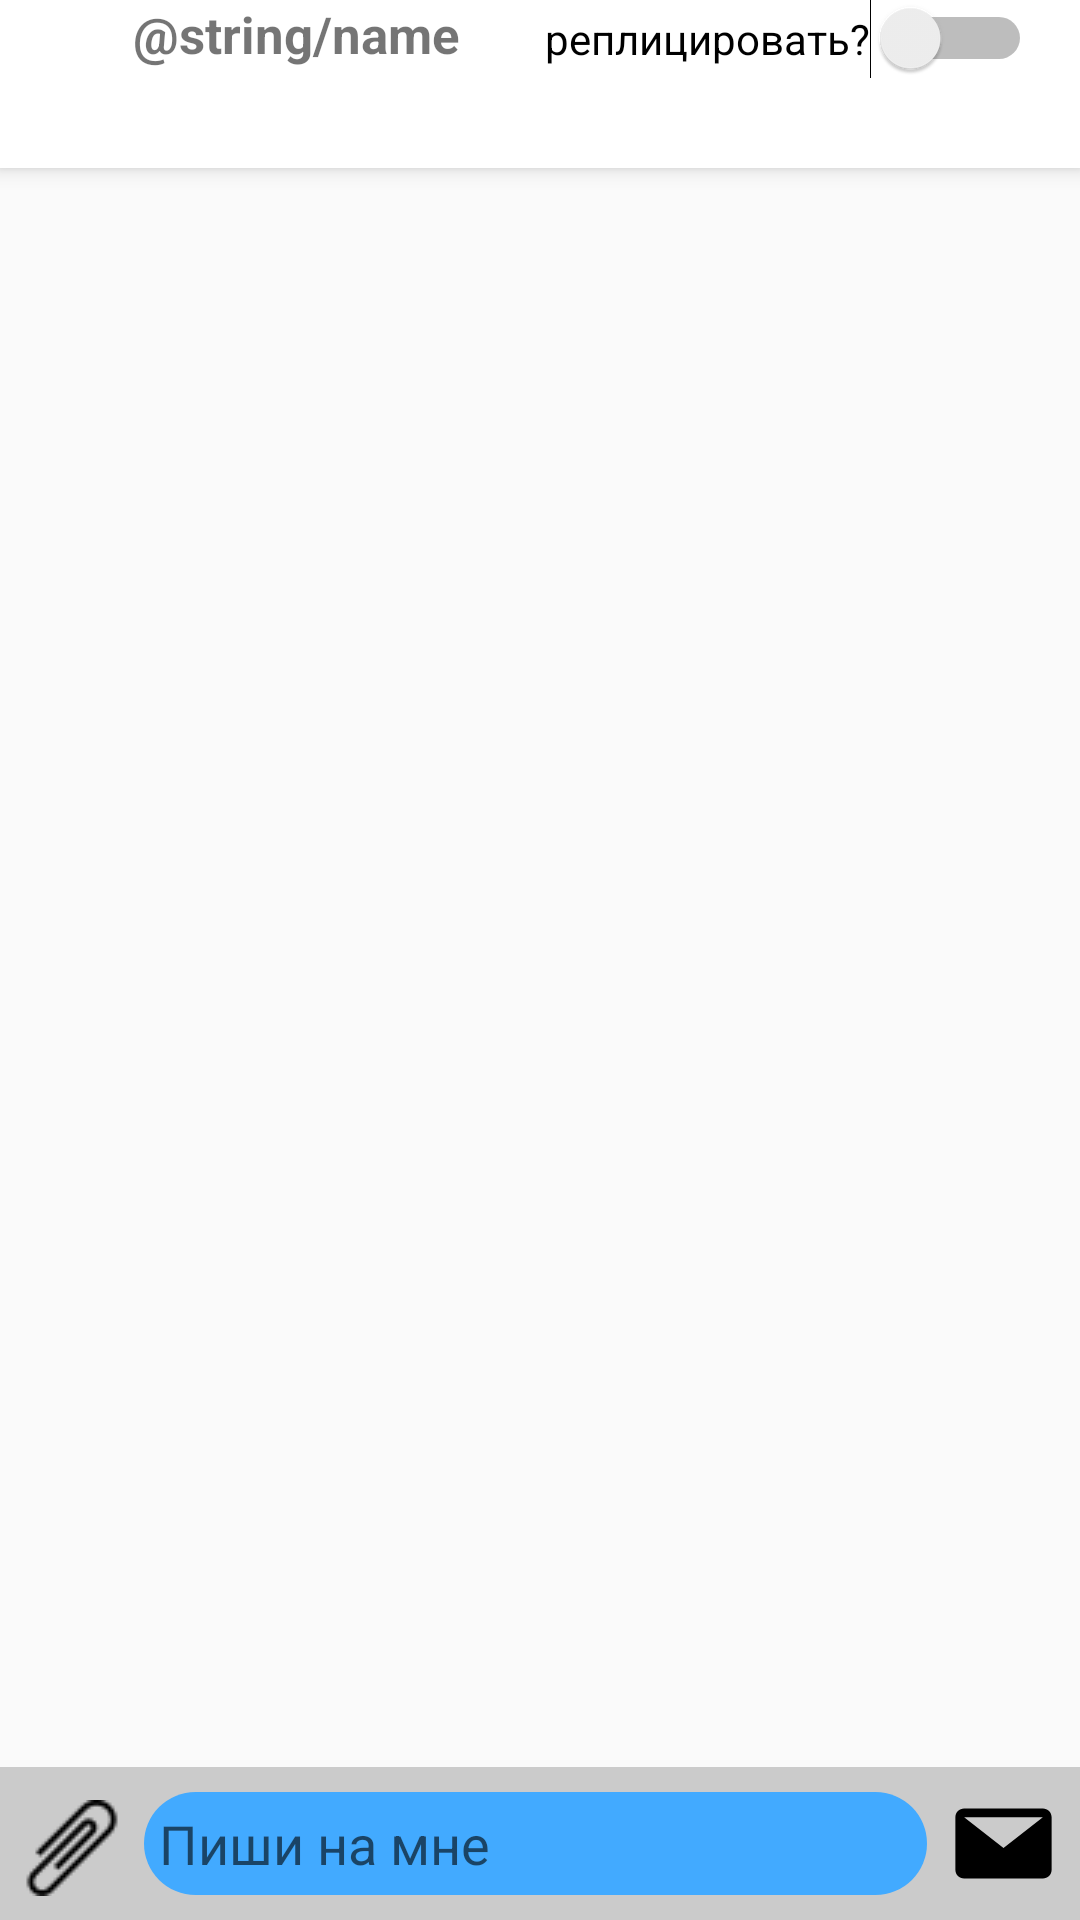

Icon click points for this 1080×1920 phone screenshot, format point (x, y):
skrepka: point (72, 1848)
Отправить: point (1003, 1843)
